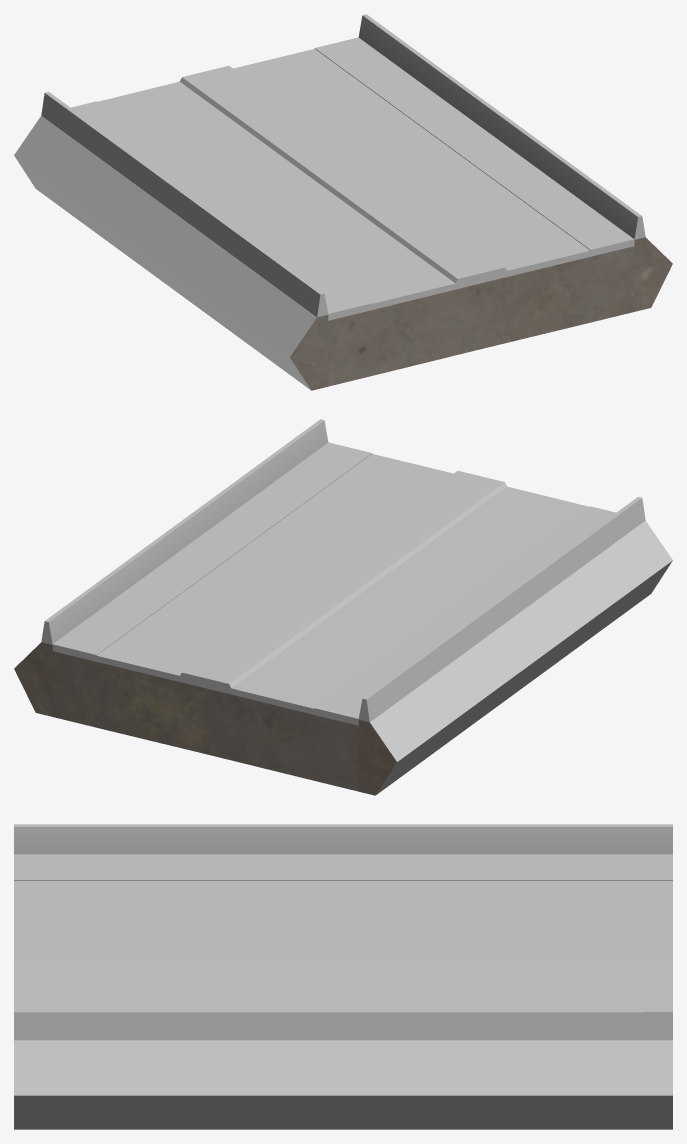
Rendered from ghiway_1a.fbx.
3 renders of one model, top to bottom at view 1: azimuth 30°, elevation 25°; view 2: azimuth 150°, elevation 25°; view 3: azimuth 270°, elevation 25°, orthographic. The views are drawn at different scales.
Parts seen in each view (by area): view 1: ghiway_1a; view 2: ghiway_1a; view 3: ghiway_1a.
Part boxes in pixels (<box>): ghiway_1a: <box>14,14,672,390</box>; ghiway_1a: <box>14,419,672,795</box>; ghiway_1a: <box>14,824,672,1129</box>.
Bounding box in the file's own units: 1492 × 349 × 1860.
